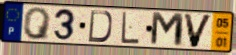3: (53, 7, 77, 43)
D: (87, 9, 114, 44)
L: (120, 11, 141, 46)
M: (148, 11, 186, 49)
Q: (23, 6, 53, 41)
V: (181, 12, 214, 49)
